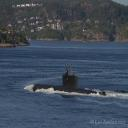submarine: (33, 63, 109, 98)
